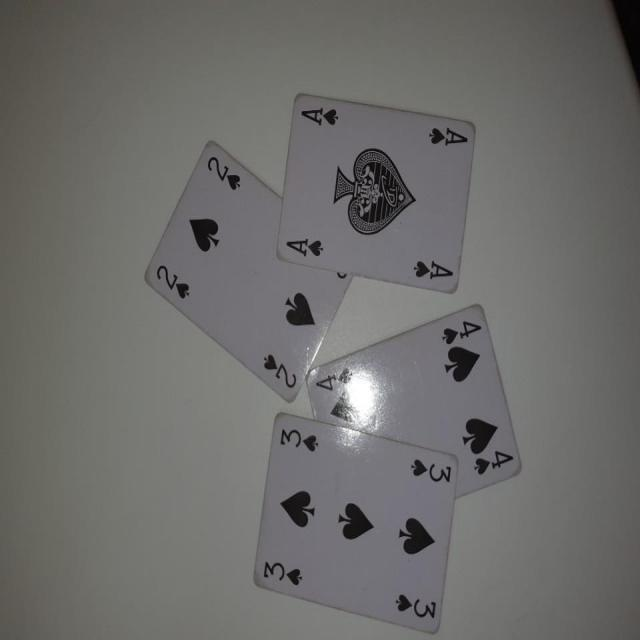2 Spades: (144, 145, 351, 411)
3 Spades: (250, 425, 454, 635)
4 Spades: (314, 308, 528, 498)
A Spades: (276, 90, 476, 296)
